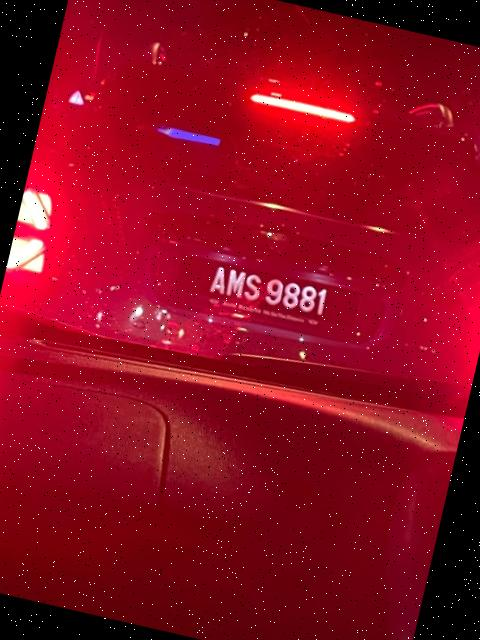License_Plate: (180, 255, 352, 330)
car: (1, 12, 480, 417)
